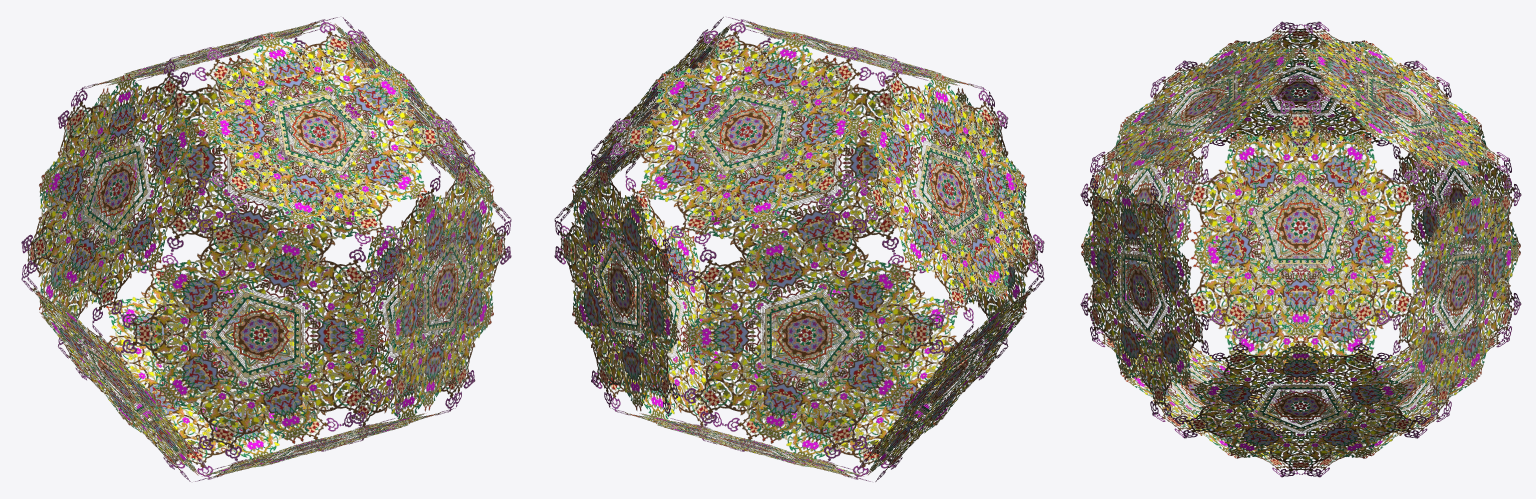
Rendered from Dodecahedron3.obj.
The picture shows the model from 3 angles, left to right: view 1: azimuth 30°, elevation 25°; view 2: azimuth 150°, elevation 25°; view 3: azimuth 270°, elevation 25°; orthographic projection. The views are drawn at different scales.
Size of the model in its own units: 2.62 by 2.62 by 2.62.
Materials: 1 (1 with a texture image).
